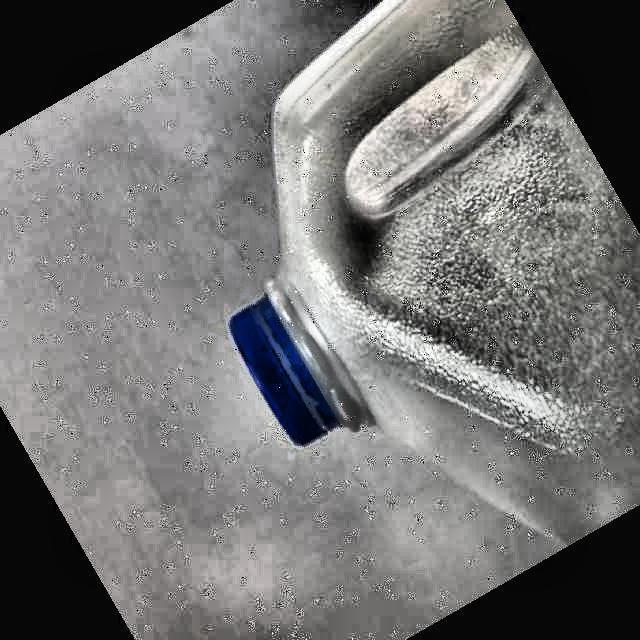plastic: (231, 0, 640, 546)
